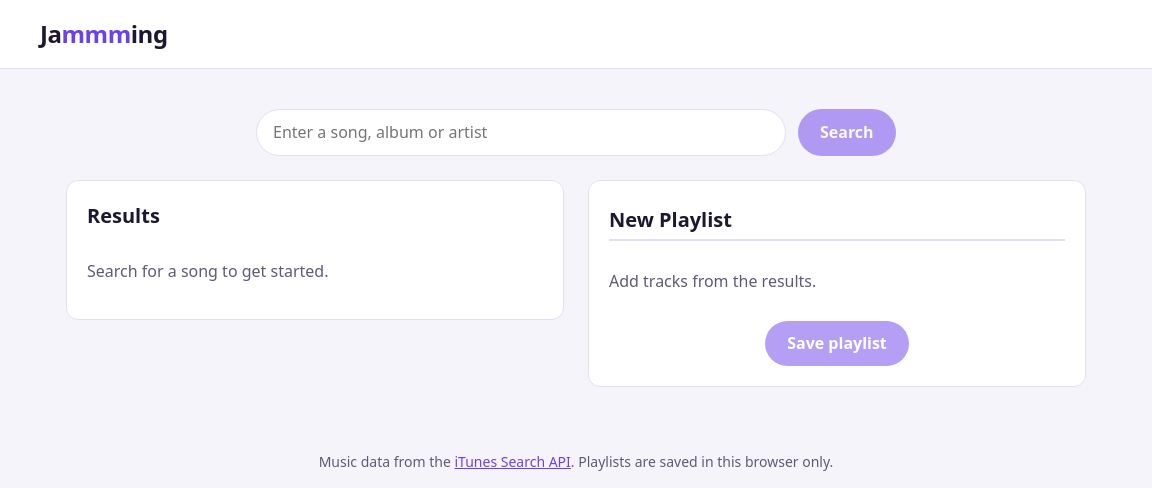
Scenario: App › shows no preview button for tracks without one
The width and height of the screenshot is (1152, 488).
Type "neil" into the search field at (521, 132), box [256,109,786,156]
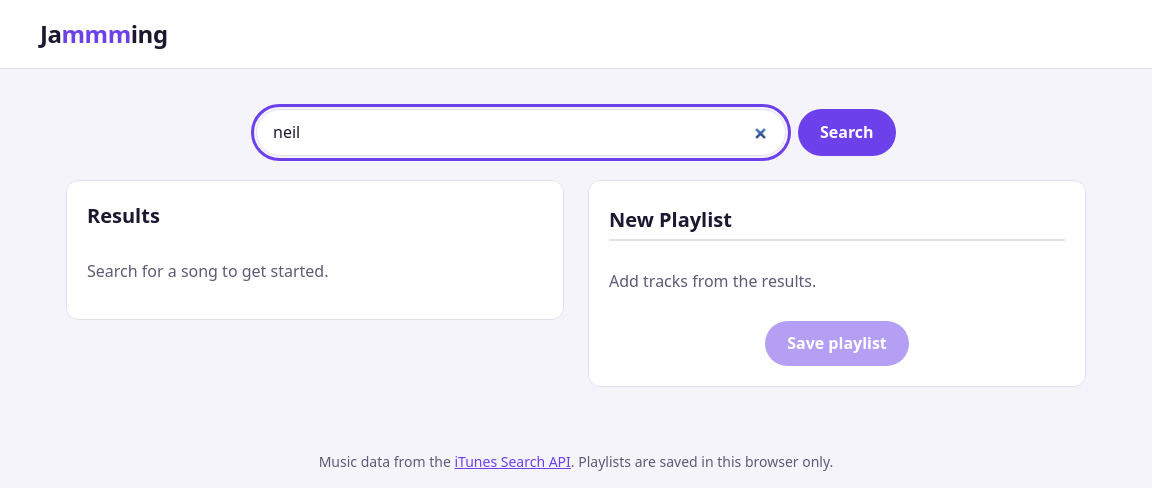
Click the button "Search" at (847, 132), box [798,109,896,156]
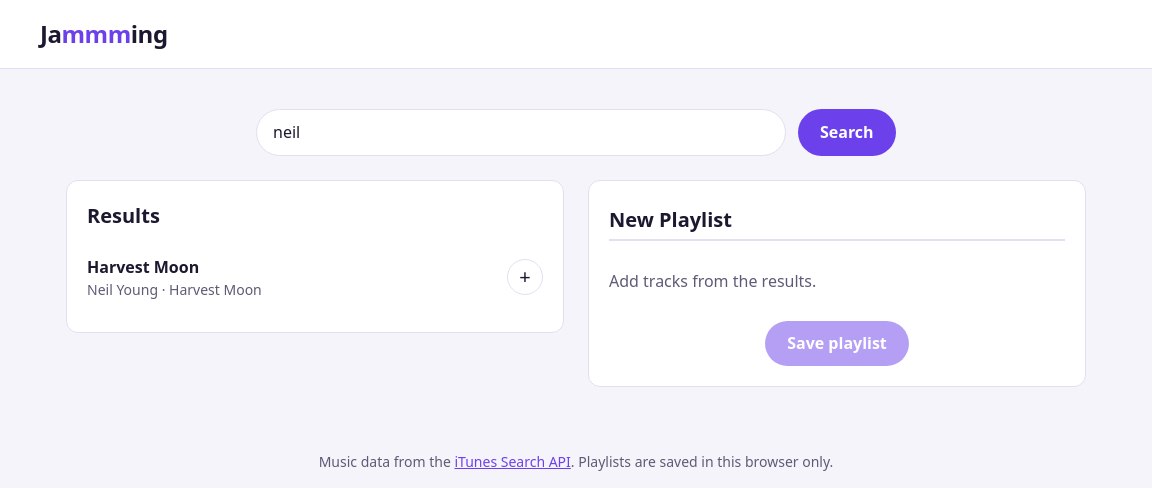
Expected: the heading "Harvest Moon" is shown, [87,256,199,278]
